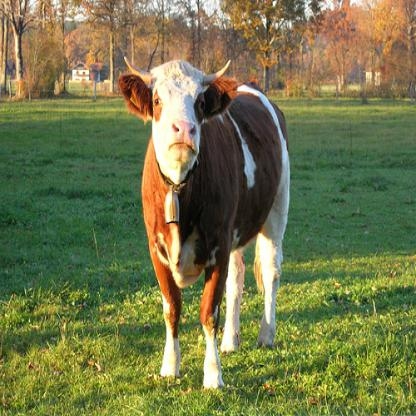cow: (114, 50, 292, 394)
